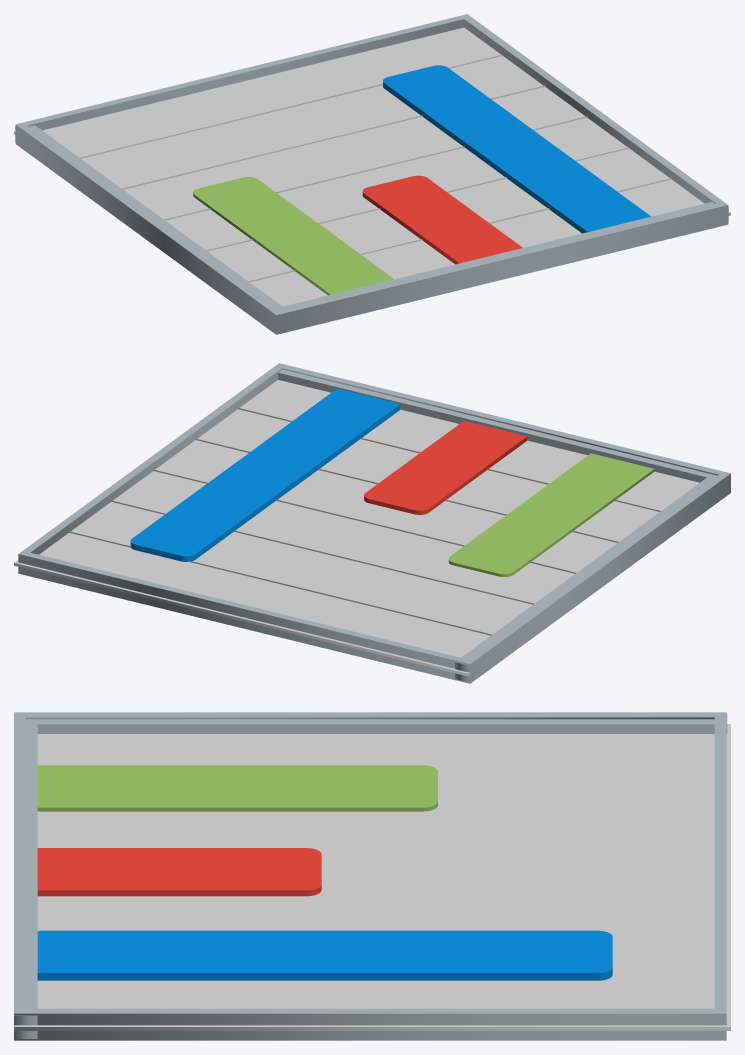
File: emoji_u1f4ca.glb
3 views of the same model, one above another, from view 1: azimuth 30°, elevation 25°; view 2: azimuth 150°, elevation 25°; view 3: azimuth 270°, elevation 25° (orthographic). The views are drawn at different scales.
Visible parts, largest first — view 1: emoji_u1f4ca; view 2: emoji_u1f4ca; view 3: emoji_u1f4ca.
Boxes of the visible parts, x1,y1,x2,y2 form: emoji_u1f4ca: (14, 14, 730, 334); emoji_u1f4ca: (14, 363, 730, 683); emoji_u1f4ca: (14, 712, 730, 1040).
Bounding box in the file's own units: 0.0339 × 0.0014 × 0.0339.
